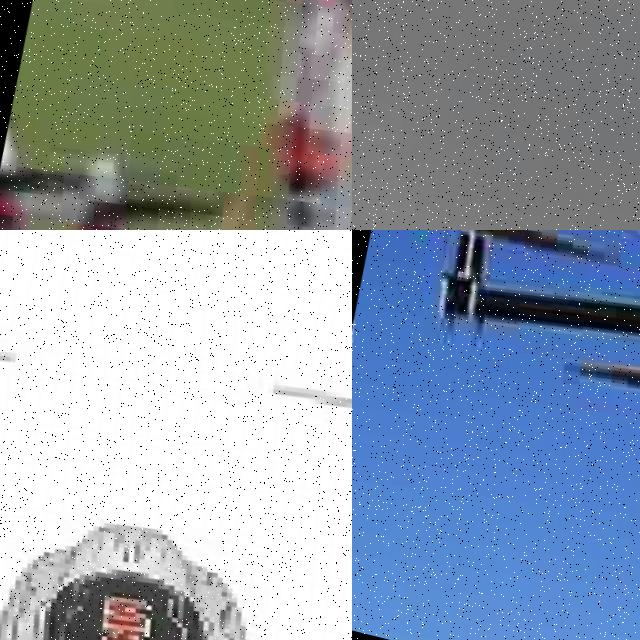0: (352, 230, 640, 640), (0, 0, 352, 230)
drone: (0, 238, 352, 640)
